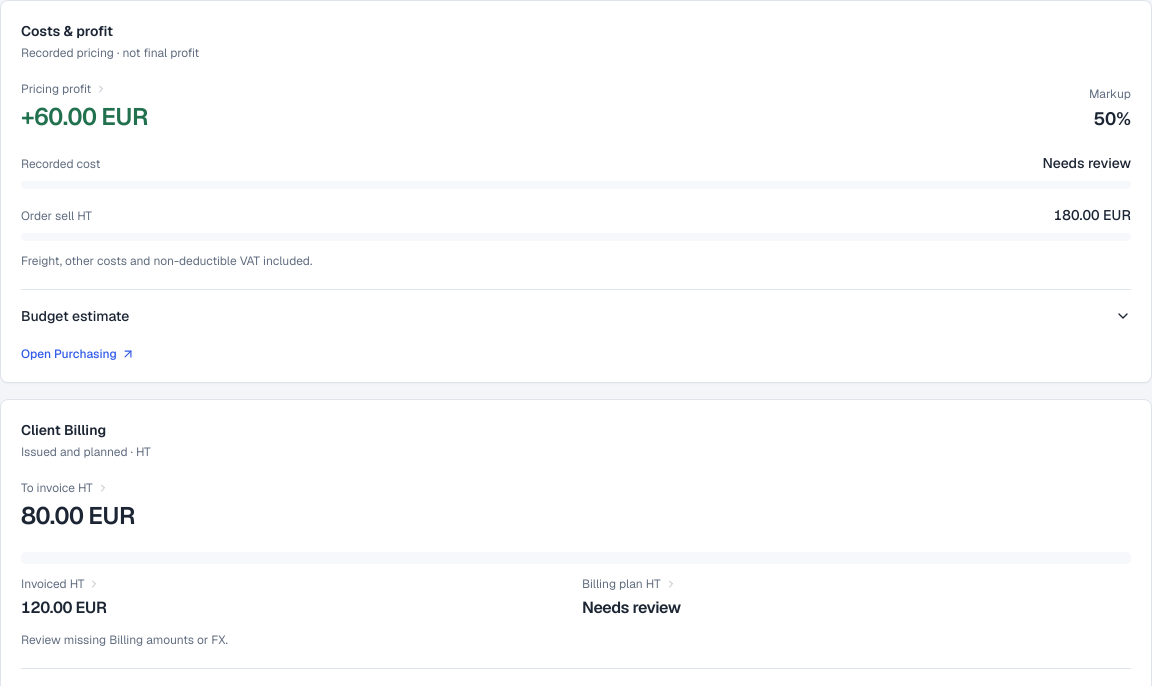
it: makes missing values actionable and never draws invented progress
Click the button "Recorded cost Needs review" at (61, 164), box [21, 153, 1131, 173]
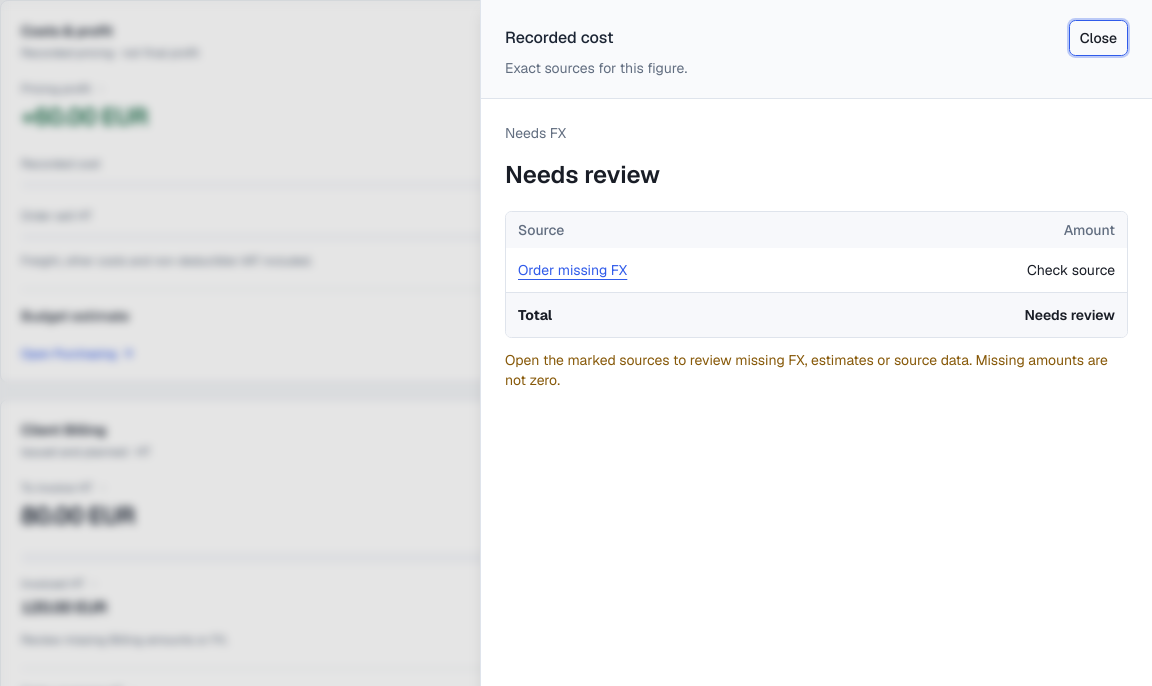
Check: the link to "/orders/missing" is shown, box [518, 261, 627, 279]
Check: the dialog shows "Check source", box [1027, 261, 1115, 279]
